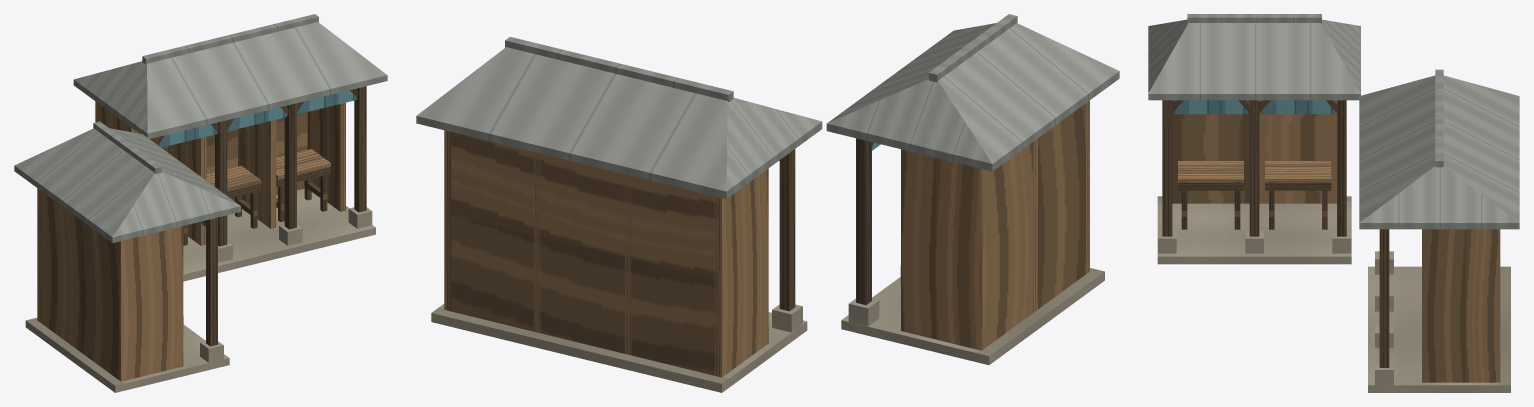
The model's file is san-jose.glb.
The picture shows the model from 3 angles, left to right: view 1: azimuth 30°, elevation 25°; view 2: azimuth 150°, elevation 25°; view 3: azimuth 270°, elevation 25°; orthographic projection. The views are drawn at different scales.
Parts seen in each view (by area): view 1: san-jose; view 2: san-jose; view 3: san-jose.
Part boxes in pixels (x1,y1,x2,y2): san-jose: [14, 14, 387, 392]; san-jose: [416, 14, 1119, 392]; san-jose: [1148, 14, 1519, 392].
Size of the model in its own units: 4.84 by 2.5 by 3.86.
Materials: 1 (1 with a texture image).
